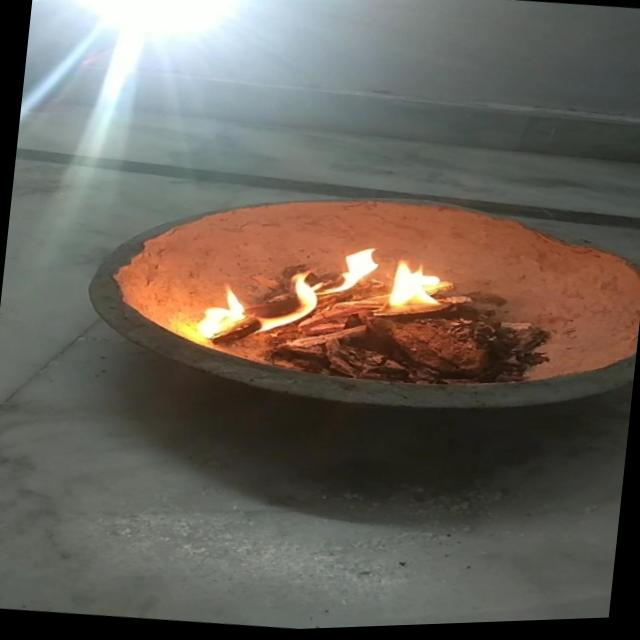fire: (245, 227, 388, 360), (385, 251, 454, 317), (191, 281, 255, 348)
